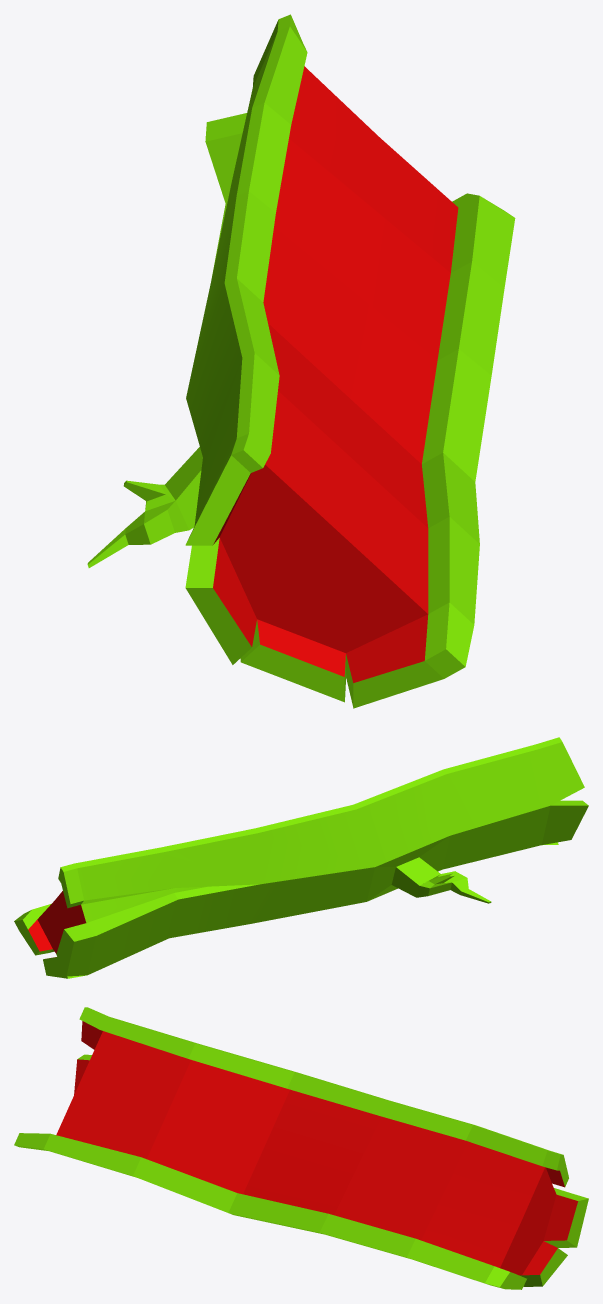
File: holzscheithalb.fbx
3 views of the same model, one above another, from view 1: azimuth 30°, elevation 25°; view 2: azimuth 150°, elevation 25°; view 3: azimuth 270°, elevation 25° (orthographic). The views are drawn at different scales.
Visible parts, largest first — view 1: holzscheithalb4; view 2: holzscheithalb4; view 3: holzscheithalb4.
Boxes of the visible parts, x1=… form: holzscheithalb4: x1=87, y1=14, x2=515, y2=708; holzscheithalb4: x1=14, y1=737, x2=588, y2=978; holzscheithalb4: x1=14, y1=1007, x2=588, y2=1289.
Bounding box in the file's own units: 50.42 × 18.94 × 68.26.
